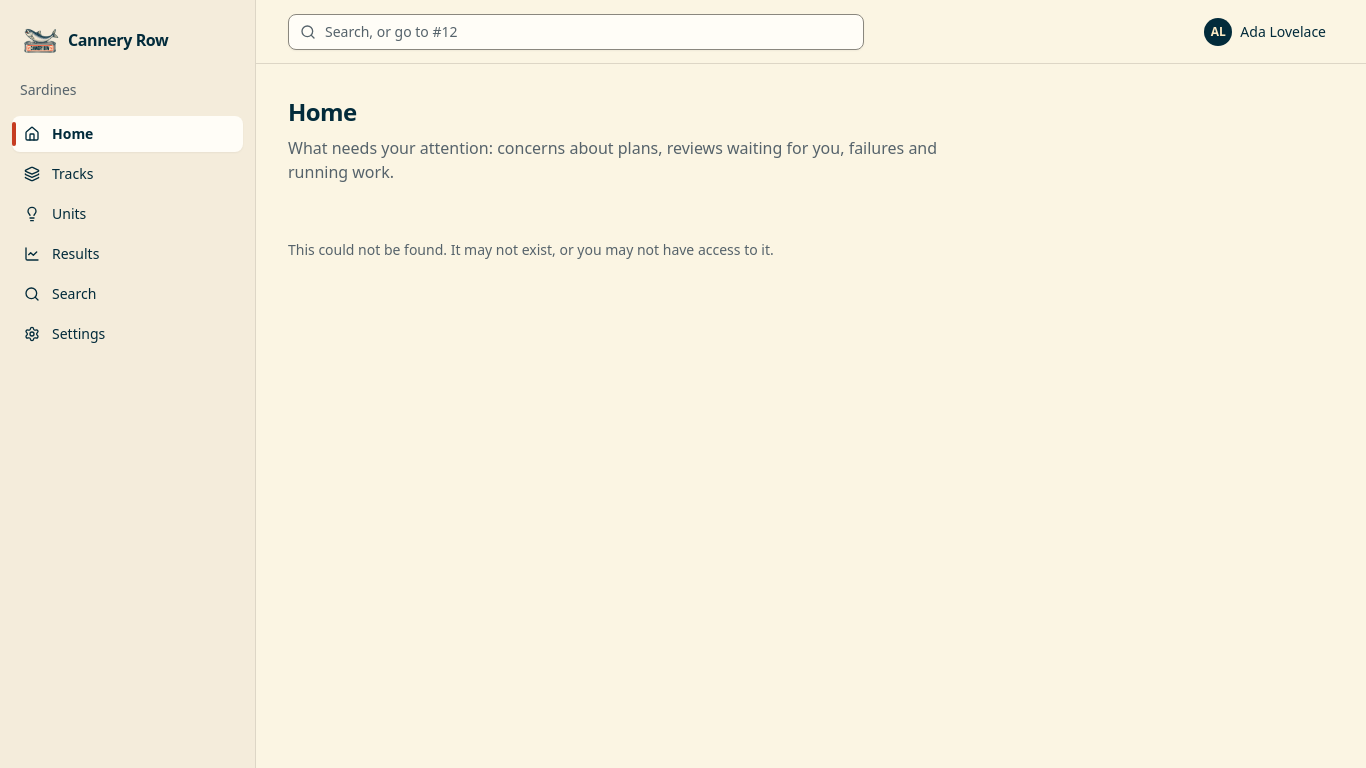
Test: the shell › shows each entry's page with its title
Expected: the heading "Home" is shown, top-left (288, 95), bottom-right (357, 128)
Click the link "Tracks".
click(59, 174)  # box top-left (24, 164), bottom-right (93, 183)
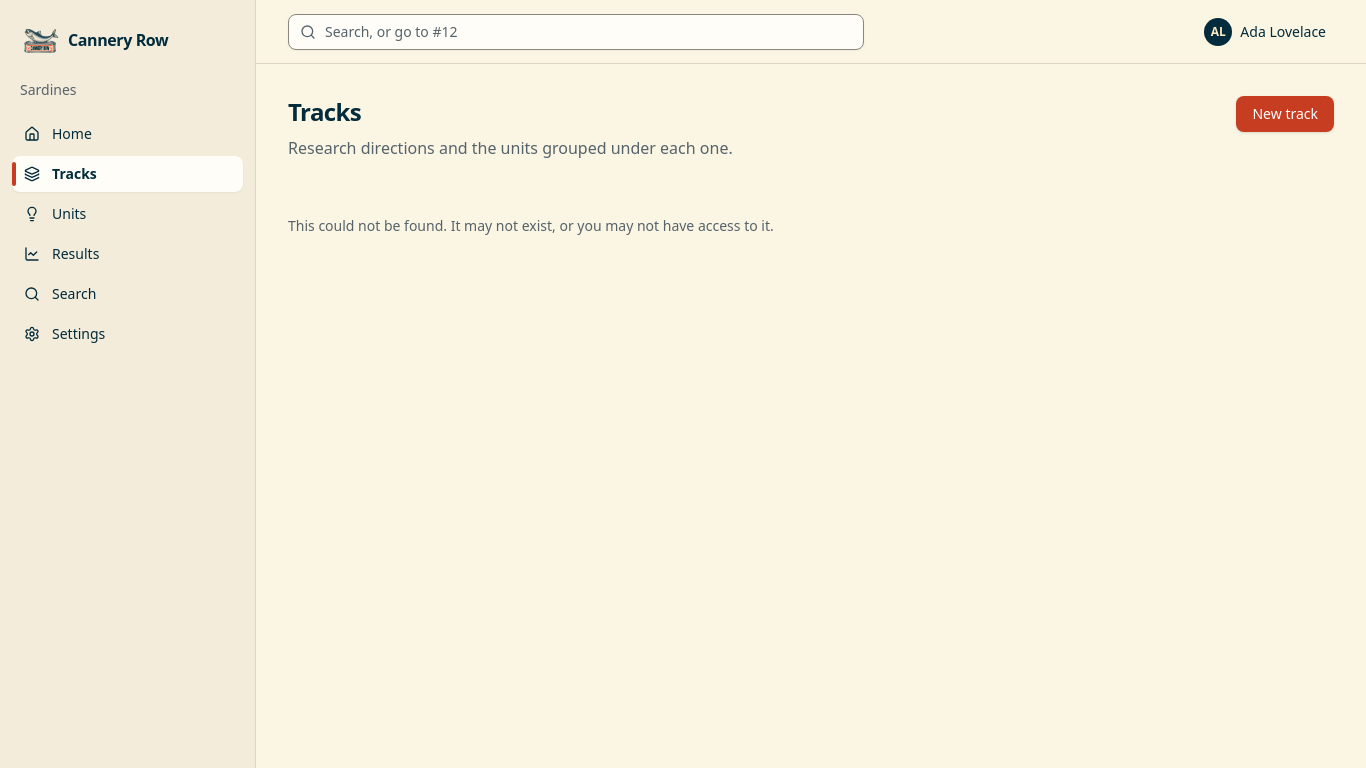
Now the heading "Tracks" is shown, box top-left (288, 95), bottom-right (361, 128)
Click the link "Units".
click(55, 214)  # box top-left (24, 204), bottom-right (86, 223)
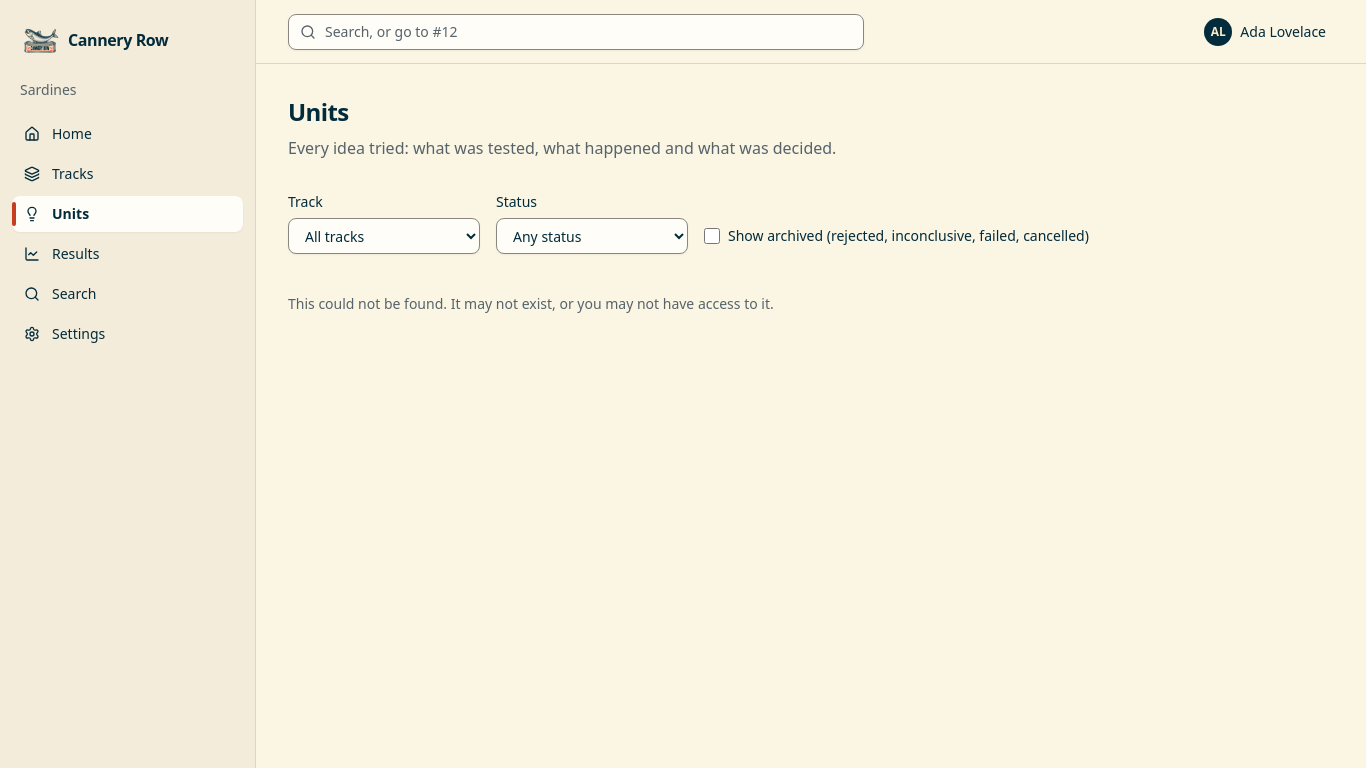
Now the heading "Units" is shown, box top-left (288, 95), bottom-right (349, 128)
Click the link "Results".
click(62, 254)  # box top-left (24, 244), bottom-right (99, 263)
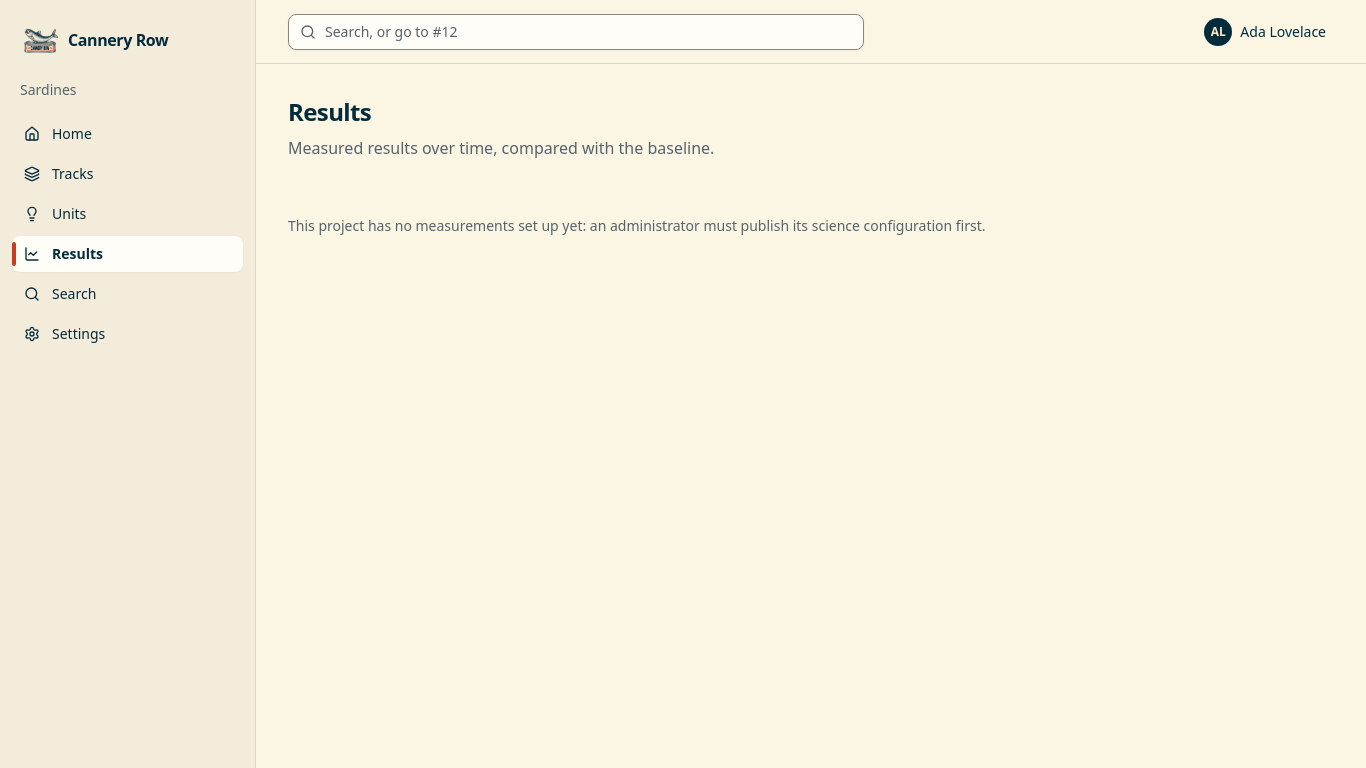
Now the heading "Results" is shown, box top-left (288, 95), bottom-right (371, 128)
Click the link "Search".
click(60, 294)  # box top-left (24, 284), bottom-right (96, 303)
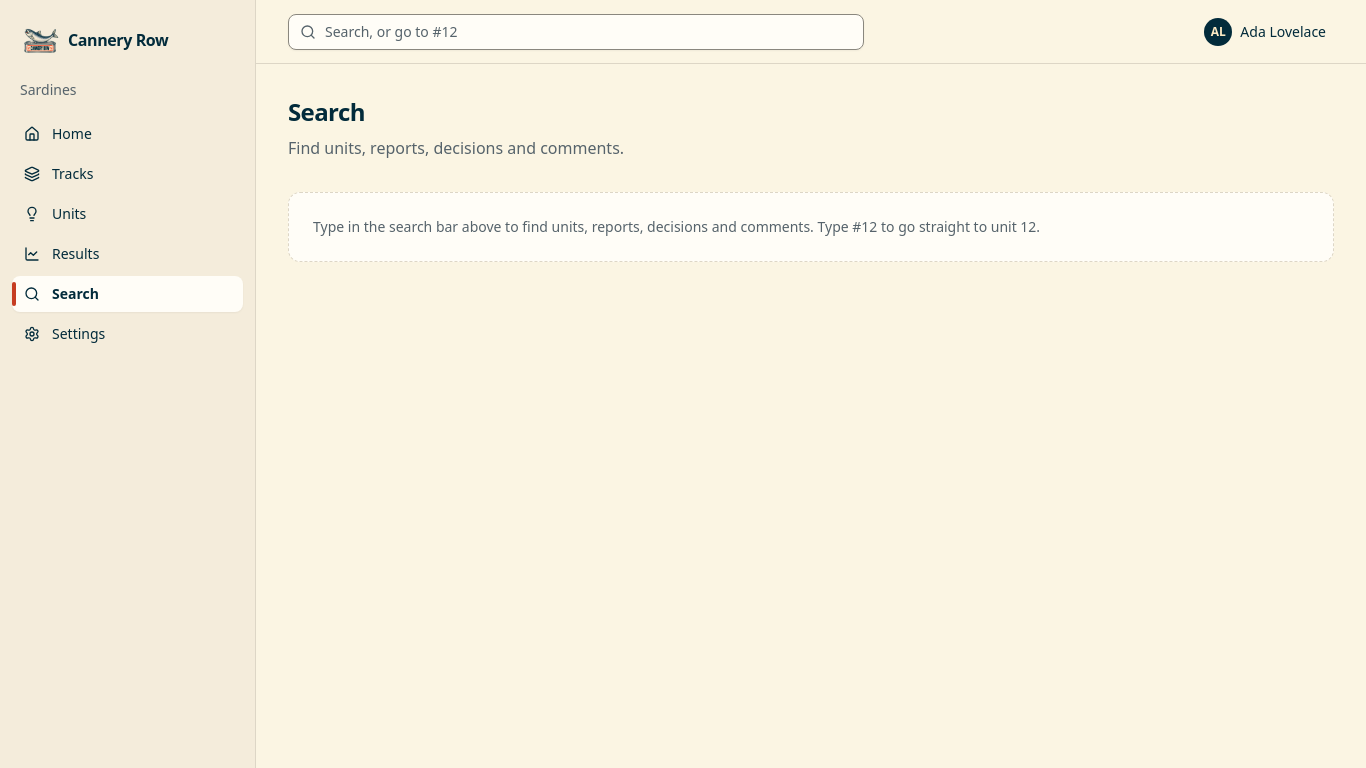
Now the heading "Search" is shown, box top-left (288, 95), bottom-right (365, 128)
Click the link "Settings".
click(65, 334)  # box top-left (24, 324), bottom-right (105, 343)
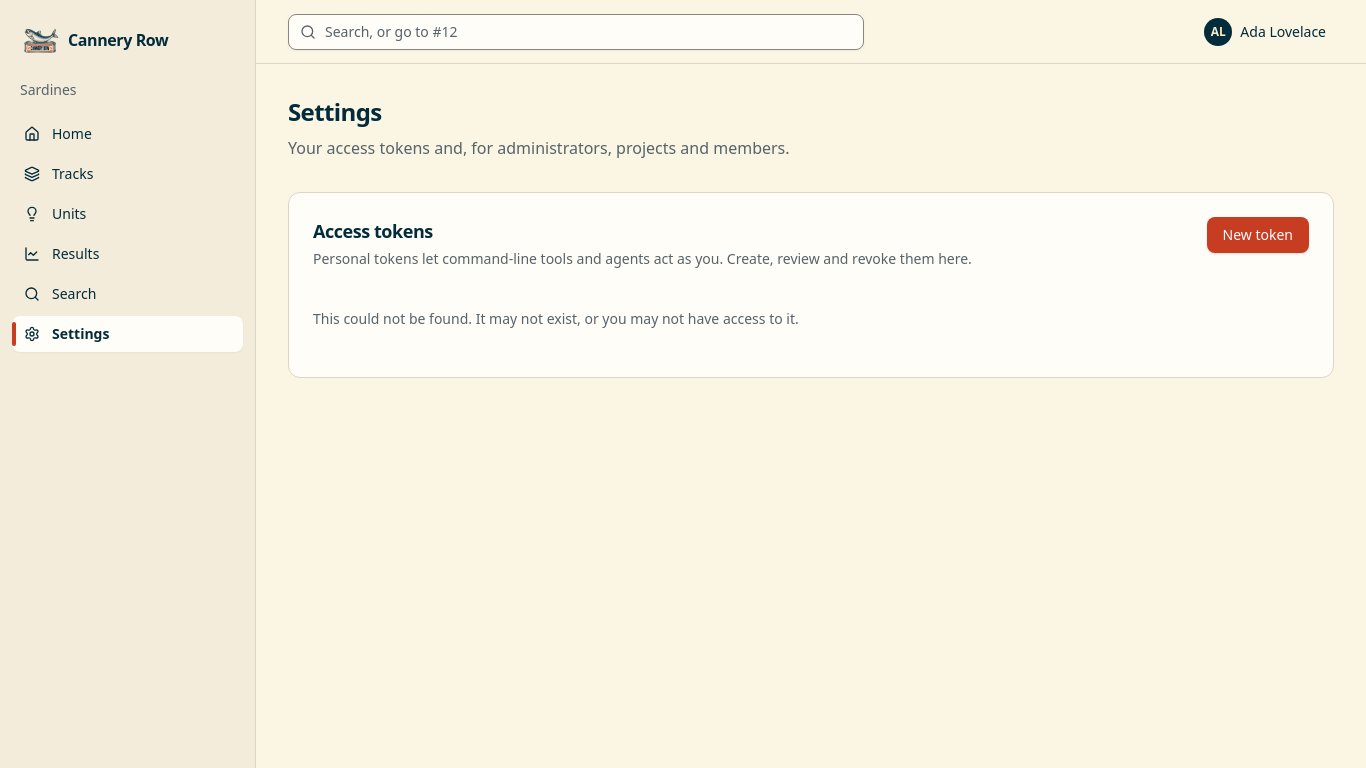
Now the heading "Settings" is shown, box top-left (288, 95), bottom-right (382, 128)
